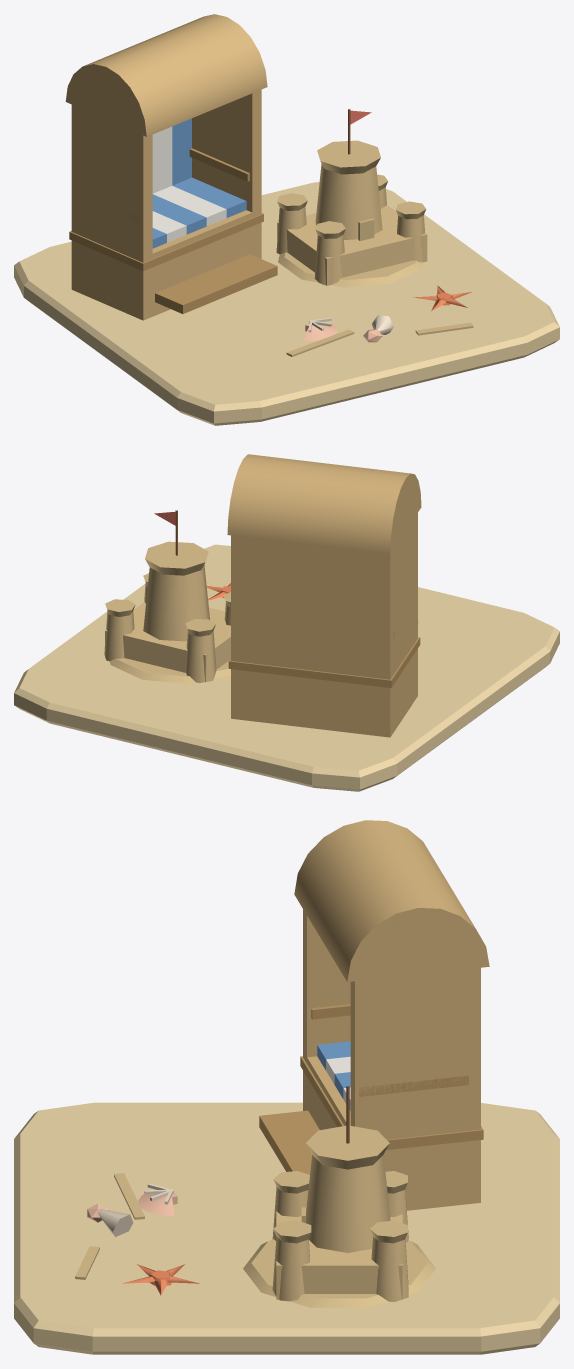
Rendered from beach_set.glb.
The picture shows the model from 3 angles, top to bottom: view 1: azimuth 30°, elevation 25°; view 2: azimuth 150°, elevation 25°; view 3: azimuth 270°, elevation 25°; orthographic projection. The views are drawn at different scales.
Parts seen in each view (by area): view 1: sand_patch, chair_hood, chair_side_left, chair_base, chair_side_right, castle_base, castle_keep, chair_footrest, chair_base_band, castle_moat_mound, castle_keep_top, chair_back_stripe_3 (+10 smaller); view 2: sand_patch, chair_back, chair_hood, chair_base, chair_side_left, castle_keep, castle_base, chair_base_band, castle_keep_top, chair_side_right, castle_moat_mound, castle_tower_2 (+3 smaller); view 3: sand_patch, chair_hood, chair_side_right, chair_base, castle_keep, chair_side_left, castle_base, castle_moat_mound, castle_keep_top, chair_footrest, castle_tower_3, castle_tower_1 (+6 smaller).
Boxes of the visible parts, x1,y1,x2,y2 form: sand_patch: (14,182,559,425); chair_hood: (65,14,267,136); chair_side_left: (71,105,152,257); chair_base: (71,209,261,320); chair_side_right: (192,89,261,212); castle_base: (277,205,427,285); castle_keep: (315,163,382,239); chair_footrest: (155,254,277,313); chair_base_band: (69,213,263,271); castle_moat_mound: (278,252,423,287); castle_keep_top: (317,140,380,174); chair_back_stripe_3: (152,126,172,193); sand_patch: (14,544,559,791); chair_back: (231,536,390,673); chair_hood: (227,454,421,554); chair_base: (231,633,417,737); chair_side_left: (377,513,417,674); castle_keep: (143,565,209,641); castle_base: (105,602,230,681); chair_base_band: (228,637,420,687); castle_keep_top: (145,541,208,575); chair_side_right: (231,535,243,656); castle_moat_mound: (109,658,230,683); castle_tower_2: (186,630,216,682); sand_patch: (14,1102,559,1354); chair_hood: (294,820,489,981); chair_side_right: (350,967,480,1133); chair_base: (303,1051,480,1210); castle_keep: (306,1155,390,1252); chair_side_left: (303,909,350,1057); castle_base: (276,1211,402,1299); castle_moat_mound: (243,1239,435,1307); castle_keep_top: (306,1125,389,1169); chair_footrest: (259,1110,319,1174); castle_tower_3: (371,1236,408,1302); castle_tower_1: (272,1236,309,1301).
Bounding box in the file's own units: 2.6 × 1.73 × 2.6.
